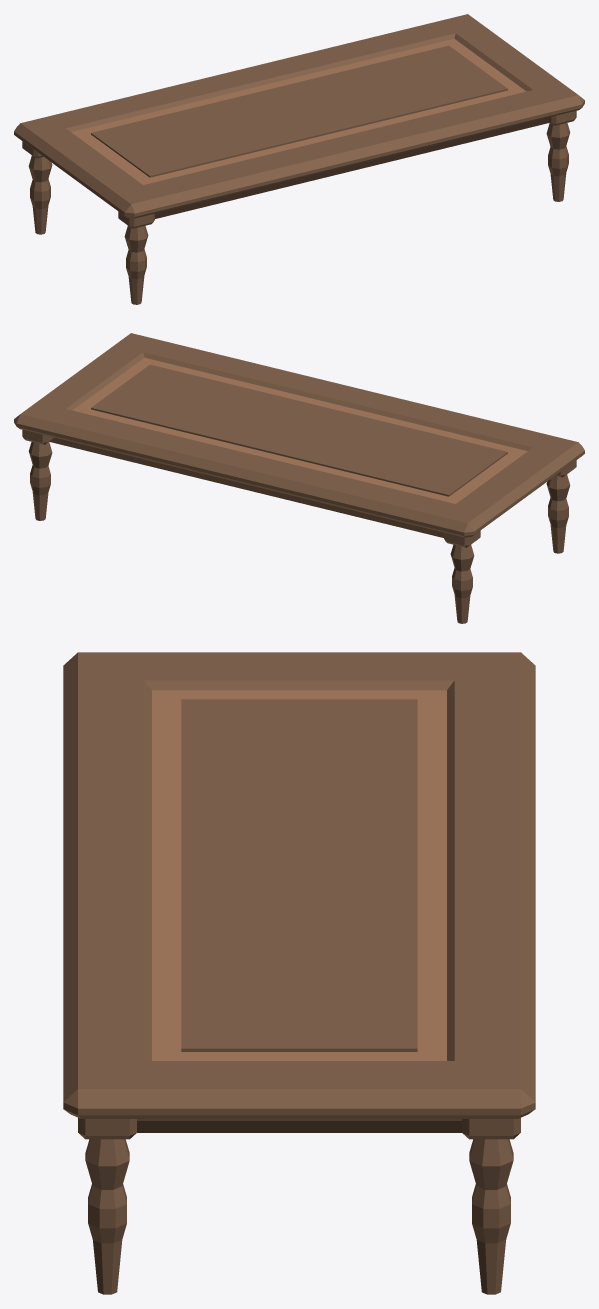
File: Prop_Living_Room_Coffee_Table.obj
The picture shows the model from 3 angles, top to bottom: view 1: azimuth 30°, elevation 25°; view 2: azimuth 150°, elevation 25°; view 3: azimuth 270°, elevation 25°; orthographic projection. The views are drawn at different scales.
Parts seen in each view (by area): view 1: object1; view 2: object1; view 3: object1.
Boxes of the visible parts, left/top/right/bottom form: object1: left=14, top=14, right=584, bottom=304; object1: left=14, top=333, right=584, bottom=623; object1: left=63, top=652, right=535, bottom=1294.
Size of the model in its own units: 1.8 by 0.4 by 0.8.
